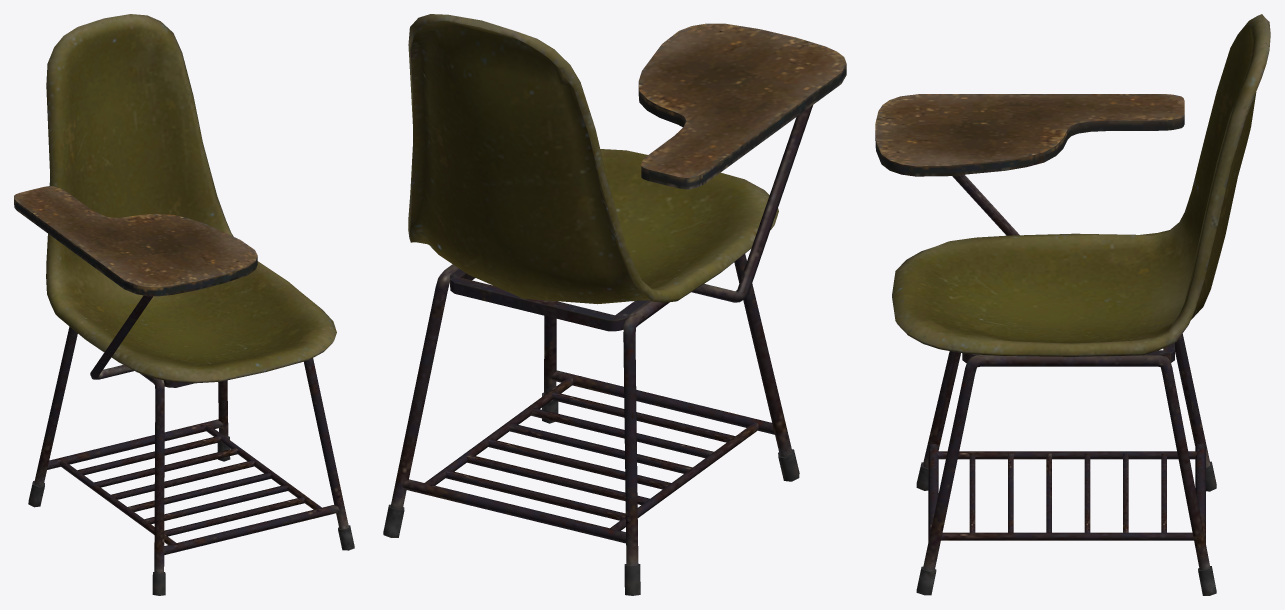
File: 001_ChairDesk.fbx
The picture shows the model from 3 angles, left to right: view 1: azimuth 30°, elevation 25°; view 2: azimuth 150°, elevation 25°; view 3: azimuth 270°, elevation 25°; orthographic projection. The views are drawn at different scales.
Visible parts, largest first — view 1: LOD_1_Group_0_Sub_1__sm30_001_ChairDesk01A_A_Mat, LOD_1_Group_5_Sub_1__sm30_001_ChairDesk01A_A_Mat, LOD_1_Group_2_Sub_1__sm30_001_ChairDesk01A_A_Mat, LOD_1_Group_1_Sub_1__sm30_001_ChairDesk01A_A_Mat, LOD_1_Group_7_Sub_1__sm30_001_ChairDesk01A_A_Mat, LOD_1_Group_8_Sub_1__sm30_001_ChairDesk01A_A_Mat, LOD_1_Group_4_Sub_1__sm30_001_ChairDesk01A_A_Mat, LOD_1_Group_6_Sub_1__sm30_001_ChairDesk01A_A_Mat, LOD_1_Group_11_Sub_1__sm30_001_ChairDesk01A_A_Mat, LOD_1_Group_13_Sub_1__sm30_001_ChairDesk01A_A_Mat, LOD_1_Group_16_Sub_1__sm30_001_ChairDesk01A_A_Mat, LOD_1_Group_12_Sub_1__sm30_001_ChairDesk01A_A_Mat (+4 smaller); view 2: LOD_1_Group_0_Sub_1__sm30_001_ChairDesk01A_A_Mat, LOD_1_Group_5_Sub_1__sm30_001_ChairDesk01A_A_Mat, LOD_1_Group_2_Sub_1__sm30_001_ChairDesk01A_A_Mat, LOD_1_Group_1_Sub_1__sm30_001_ChairDesk01A_A_Mat, LOD_1_Group_3_Sub_1__sm30_001_ChairDesk01A_A_Mat, LOD_1_Group_4_Sub_1__sm30_001_ChairDesk01A_A_Mat, LOD_1_Group_8_Sub_1__sm30_001_ChairDesk01A_A_Mat, LOD_1_Group_7_Sub_1__sm30_001_ChairDesk01A_A_Mat, LOD_1_Group_6_Sub_1__sm30_001_ChairDesk01A_A_Mat, LOD_1_Group_16_Sub_1__sm30_001_ChairDesk01A_A_Mat, LOD_1_Group_11_Sub_1__sm30_001_ChairDesk01A_A_Mat, LOD_1_Group_15_Sub_1__sm30_001_ChairDesk01A_A_Mat (+5 smaller); view 3: LOD_1_Group_0_Sub_1__sm30_001_ChairDesk01A_A_Mat, LOD_1_Group_5_Sub_1__sm30_001_ChairDesk01A_A_Mat, LOD_1_Group_1_Sub_1__sm30_001_ChairDesk01A_A_Mat, LOD_1_Group_2_Sub_1__sm30_001_ChairDesk01A_A_Mat, LOD_1_Group_10_Sub_1__sm30_001_ChairDesk01A_A_Mat, LOD_1_Group_17_Sub_1__sm30_001_ChairDesk01A_A_Mat, LOD_1_Group_6_Sub_1__sm30_001_ChairDesk01A_A_Mat, LOD_1_Group_4_Sub_1__sm30_001_ChairDesk01A_A_Mat, LOD_1_Group_7_Sub_1__sm30_001_ChairDesk01A_A_Mat, LOD_1_Group_8_Sub_1__sm30_001_ChairDesk01A_A_Mat, LOD_1_Group_11_Sub_1__sm30_001_ChairDesk01A_A_Mat, LOD_1_Group_13_Sub_1__sm30_001_ChairDesk01A_A_Mat.
Part boxes in pixels (x1,y1,x2,y2): LOD_1_Group_0_Sub_1__sm30_001_ChairDesk01A_A_Mat: (46,14,336,383); LOD_1_Group_5_Sub_1__sm30_001_ChairDesk01A_A_Mat: (14,186,257,296); LOD_1_Group_2_Sub_1__sm30_001_ChairDesk01A_A_Mat: (34,326,164,573); LOD_1_Group_1_Sub_1__sm30_001_ChairDesk01A_A_Mat: (218,358,348,529); LOD_1_Group_7_Sub_1__sm30_001_ChairDesk01A_A_Mat: (164,505,339,554); LOD_1_Group_8_Sub_1__sm30_001_ChairDesk01A_A_Mat: (47,419,222,469); LOD_1_Group_4_Sub_1__sm30_001_ChairDesk01A_A_Mat: (90,295,152,379); LOD_1_Group_6_Sub_1__sm30_001_ChairDesk01A_A_Mat: (28,436,354,595); LOD_1_Group_11_Sub_1__sm30_001_ChairDesk01A_A_Mat: (164,497,304,536); LOD_1_Group_13_Sub_1__sm30_001_ChairDesk01A_A_Mat: (111,460,254,499); LOD_1_Group_16_Sub_1__sm30_001_ChairDesk01A_A_Mat: (77,435,221,475); LOD_1_Group_12_Sub_1__sm30_001_ChairDesk01A_A_Mat: (144,484,288,524); LOD_1_Group_0_Sub_1__sm30_001_ChairDesk01A_A_Mat: (408,14,778,304); LOD_1_Group_5_Sub_1__sm30_001_ChairDesk01A_A_Mat: (638,23,846,189); LOD_1_Group_2_Sub_1__sm30_001_ChairDesk01A_A_Mat: (623,254,791,566); LOD_1_Group_1_Sub_1__sm30_001_ChairDesk01A_A_Mat: (391,264,556,509); LOD_1_Group_3_Sub_1__sm30_001_ChairDesk01A_A_Mat: (450,268,649,331); LOD_1_Group_4_Sub_1__sm30_001_ChairDesk01A_A_Mat: (691,105,812,302); LOD_1_Group_8_Sub_1__sm30_001_ChairDesk01A_A_Mat: (402,479,625,543); LOD_1_Group_7_Sub_1__sm30_001_ChairDesk01A_A_Mat: (551,370,774,434); LOD_1_Group_6_Sub_1__sm30_001_ChairDesk01A_A_Mat: (383,392,799,595); LOD_1_Group_16_Sub_1__sm30_001_ChairDesk01A_A_Mat: (445,470,625,520); LOD_1_Group_11_Sub_1__sm30_001_ChairDesk01A_A_Mat: (552,392,735,442); LOD_1_Group_15_Sub_1__sm30_001_ChairDesk01A_A_Mat: (466,454,649,504); LOD_1_Group_0_Sub_1__sm30_001_ChairDesk01A_A_Mat: (892,14,1270,356); LOD_1_Group_5_Sub_1__sm30_001_ChairDesk01A_A_Mat: (875,94,1184,176); LOD_1_Group_1_Sub_1__sm30_001_ChairDesk01A_A_Mat: (923,355,1210,571); LOD_1_Group_2_Sub_1__sm30_001_ChairDesk01A_A_Mat: (923,334,1210,468); LOD_1_Group_10_Sub_1__sm30_001_ChairDesk01A_A_Mat: (941,532,1193,540); LOD_1_Group_17_Sub_1__sm30_001_ChairDesk01A_A_Mat: (936,451,1197,459); LOD_1_Group_6_Sub_1__sm30_001_ChairDesk01A_A_Mat: (916,461,1216,595); LOD_1_Group_4_Sub_1__sm30_001_ChairDesk01A_A_Mat: (952,174,1019,235); LOD_1_Group_7_Sub_1__sm30_001_ChairDesk01A_A_Mat: (928,443,938,541); LOD_1_Group_8_Sub_1__sm30_001_ChairDesk01A_A_Mat: (1195,443,1205,543); LOD_1_Group_11_Sub_1__sm30_001_ChairDesk01A_A_Mat: (969,453,975,532); LOD_1_Group_13_Sub_1__sm30_001_ChairDesk01A_A_Mat: (1084,453,1090,532).
Bounding box in the file's own units: 0.5362 × 0.9685 × 0.6792.
